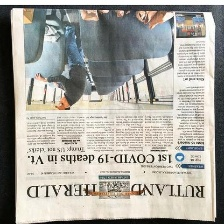news_paper: (8, 6, 220, 224)
